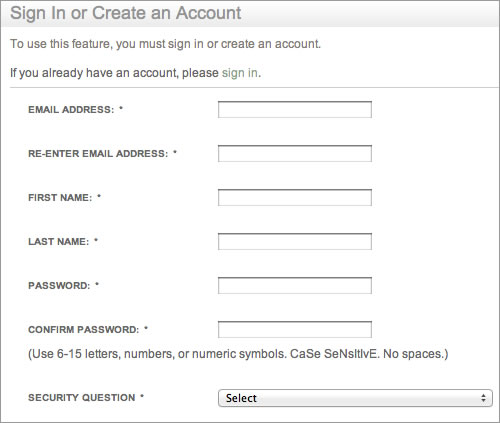_form_: (21, 10, 497, 423)
field: (216, 187, 374, 207), (215, 320, 373, 340), (216, 231, 373, 251), (216, 99, 372, 119), (215, 276, 374, 295), (216, 144, 374, 163)
field_with_label: (27, 388, 496, 409), (28, 274, 376, 297), (29, 186, 376, 209), (28, 98, 373, 121), (28, 230, 376, 252), (29, 143, 376, 165), (29, 319, 375, 340)
select: (217, 389, 494, 408)
